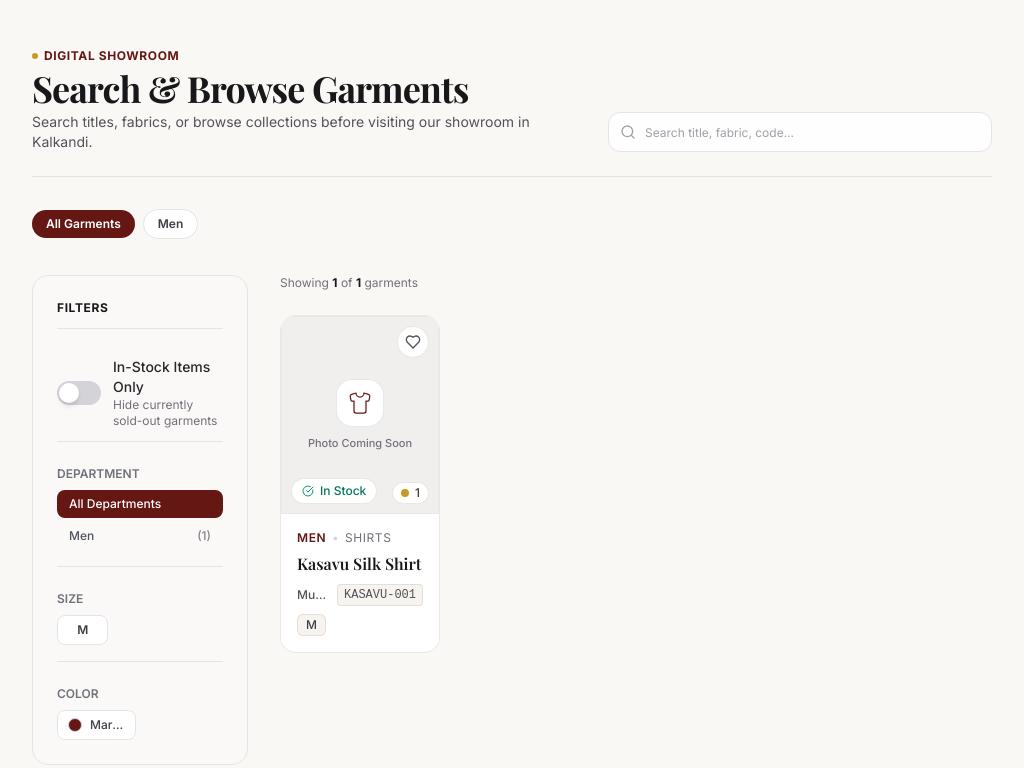
Catalog and Search Unified Optimization Suite › 2. Verifies Catalog search bar contains clear (X) button when query is present
Note: Type a search query
Type "Silk" into the dropdown with placeholder "Search title, fabric, code..." at (800, 132), box [608,112,992,152]
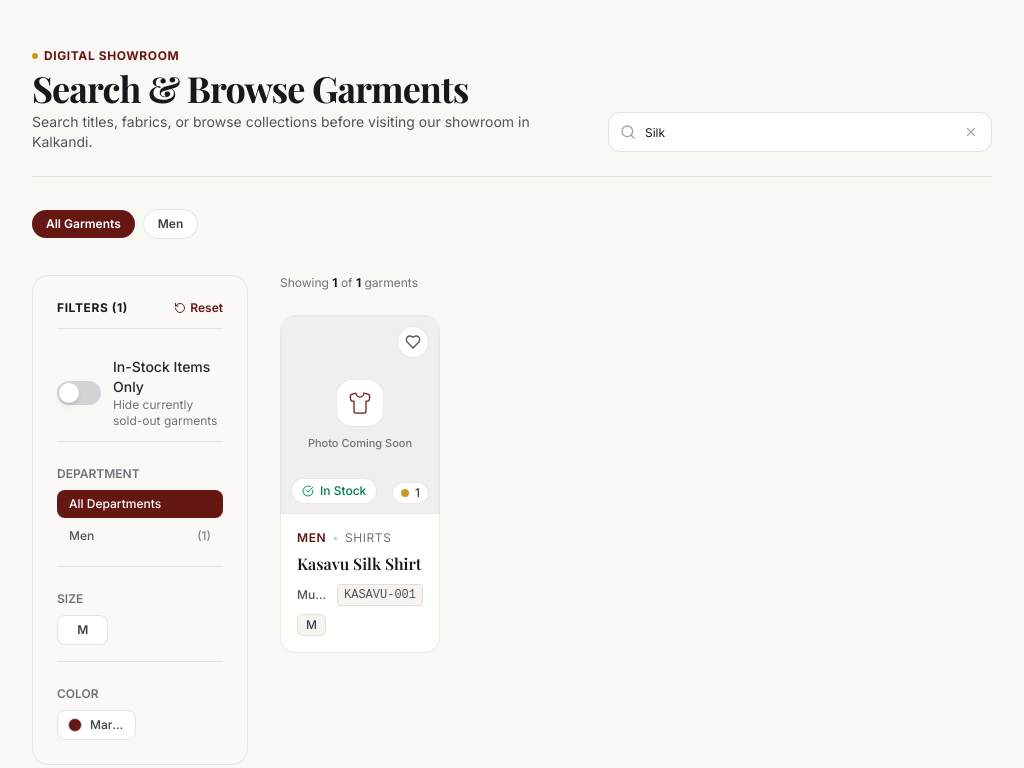
Expected: the button named "Clear search input" is shown
Note: Click clear button
Click the button named "Clear search input" at (971, 132), box [960,121,982,143]
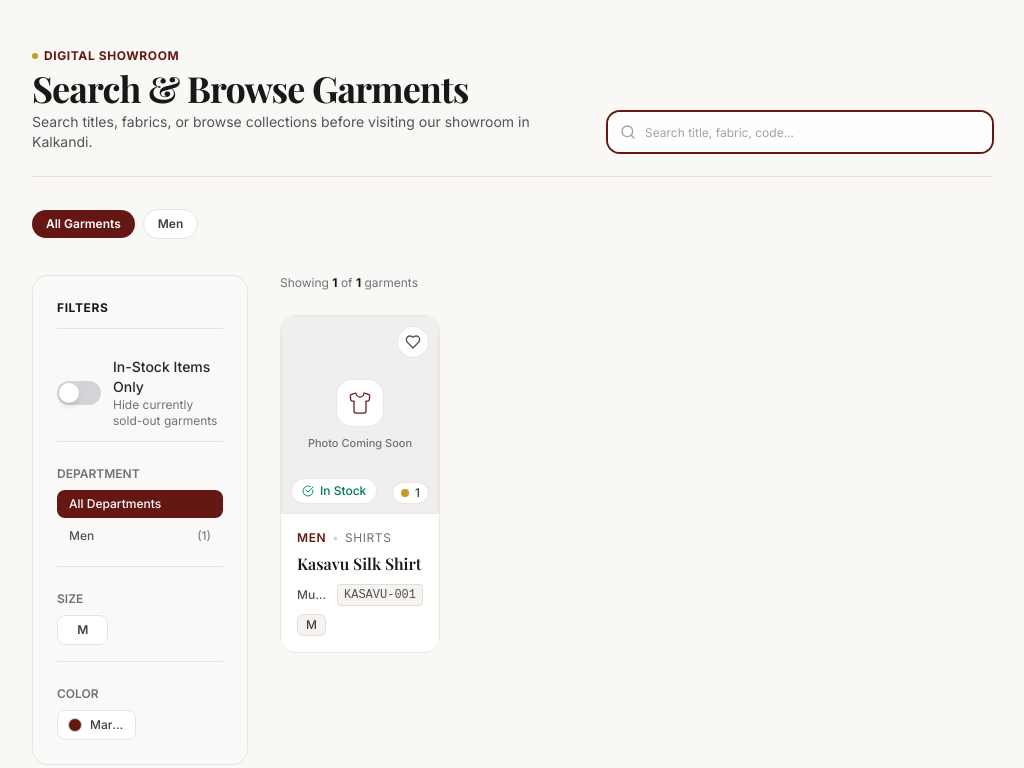
Expected: the dropdown with placeholder "Search title, fabric, code..." is empty, [608,112,992,152]
